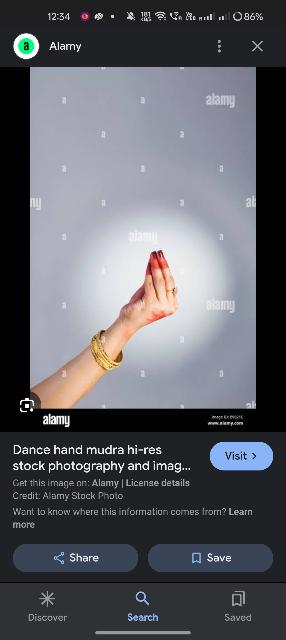mukul: (31, 251, 179, 408)
